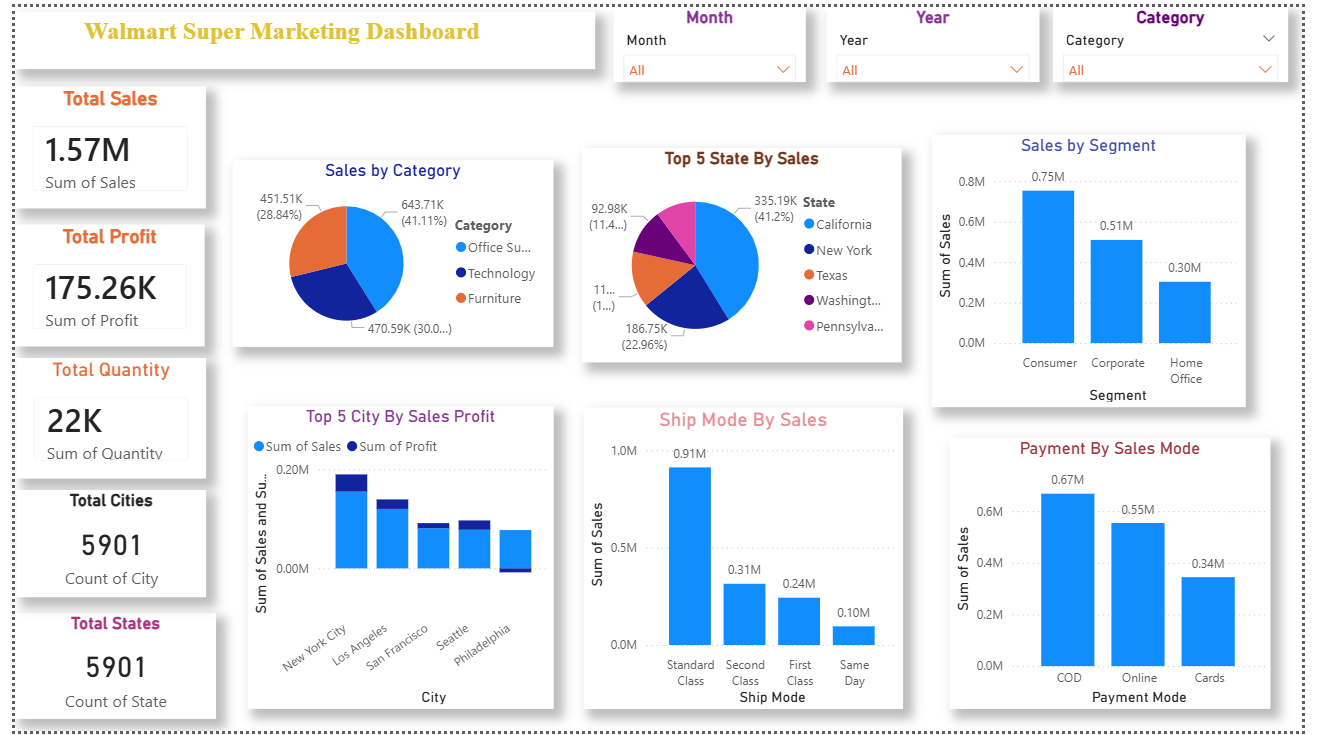

This screenshot's page, from the dashboard's own definition file:
{"tool":"powerbi","page":{"name":"Page 1","canvas":[1280,720],"ordinal":0},"visuals":[{"type":"textbox","box":[0,5,577.5,57.5],"z":0},{"type":"cardVisual","title":"Total Sales","fields":{"Data":["Sum(SuperStore_Sales_Dataset (1).Sales)"]},"box":[0,78.9,190,121.3],"z":1000},{"type":"cardVisual","title":"Total Profit","fields":{"Data":["Sum(SuperStore_Sales_Dataset (1).Profit)"]},"box":[0,216.3,188.5,121.3],"z":2000},{"type":"cardVisual","title":"Total Quantity","fields":{"Data":["Sum(SuperStore_Sales_Dataset (1).Quantity)"]},"box":[1.5,349.3,188.5,119.8],"z":3000},{"type":"card","title":"Total States ","fields":{"Values":["CountNonNull(SuperStore_Sales_Dataset (1).State)"]},"box":[0,603.6,200.2,105.2],"z":4000},{"type":"card","title":"Total Cities","fields":{"Values":["CountNonNull(SuperStore_Sales_Dataset (1).City)"]},"box":[1.5,480.8,188.5,106.7],"z":5000},{"type":"pieChart","title":"Sales by Category","fields":{"Y":["Sum(SuperStore_Sales_Dataset (1).Sales)"],"Category":["SuperStore_Sales_Dataset (1).Category"]},"box":[216.4,151.6,319.2,185.9],"z":6000},{"type":"pieChart","title":"Top 5 State By Sales","fields":{"Category":["SuperStore_Sales_Dataset (1).State"],"Y":["Sum(SuperStore_Sales_Dataset (1).Sales)"]},"box":[564.2,140.3,317.9,213.4],"z":7000},{"type":"columnChart","title":"Sales by Segment","fields":{"Y":["Sum(SuperStore_Sales_Dataset (1).Sales)"],"Category":["SuperStore_Sales_Dataset (1).Segment"]},"box":[911.2,127.5,312.5,271.2],"z":8000},{"type":"columnChart","title":"Top 5 City By Sales Profit","fields":{"Category":["SuperStore_Sales_Dataset (1).City"],"Y":["Sum(SuperStore_Sales_Dataset (1).Sales)","Sum(SuperStore_Sales_Dataset (1).Profit)"]},"box":[231.3,397,304.5,301.5],"z":9000},{"type":"columnChart","title":"Ship Mode By Sales","fields":{"Category":["SuperStore_Sales_Dataset (1).Ship Mode"],"Y":["Sum(SuperStore_Sales_Dataset (1).Sales)"]},"box":[565.7,398.5,317.9,300],"z":10000},{"type":"columnChart","title":"Payment By Sales Mode","fields":{"Category":["SuperStore_Sales_Dataset (1).Payment Mode"],"Y":["Sum(SuperStore_Sales_Dataset (1).Sales)"]},"box":[929.9,428.4,319.4,270.1],"z":11000},{"type":"slicer","title":"Month","fields":{"Values":["SuperStore_Sales_Dataset (1).Month"]},"box":[594.8,0,191.5,74.5],"z":12000},{"type":"slicer","title":"Year","fields":{"Values":["SuperStore_Sales_Dataset (1).Year"]},"box":[806.7,0,211.9,74.5],"z":13000},{"type":"slicer","title":"Category","fields":{"Values":["SuperStore_Sales_Dataset (1).Category"]},"box":[1033.3,0,233.8,74.5],"z":14000}]}

Visuals, with their boxes in screenshot pixels (x1, y1, x2, y2), scaled from the page's 1280x720 canvas onto the 1322x735 screenshot:
textbox: x1=0, y1=5, x2=596, y2=64
"Total Sales" cardVisual: x1=0, y1=81, x2=196, y2=204
"Total Profit" cardVisual: x1=0, y1=221, x2=195, y2=345
"Total Quantity" cardVisual: x1=2, y1=357, x2=196, y2=479
"Total States " card: x1=0, y1=616, x2=207, y2=724
"Total Cities" card: x1=2, y1=491, x2=196, y2=600
"Sales by Category" pieChart: x1=224, y1=155, x2=553, y2=345
"Top 5 State By Sales" pieChart: x1=583, y1=143, x2=911, y2=361
"Sales by Segment" columnChart: x1=941, y1=130, x2=1264, y2=407
"Top 5 City By Sales Profit" columnChart: x1=239, y1=405, x2=553, y2=713
"Ship Mode By Sales" columnChart: x1=584, y1=407, x2=913, y2=713
"Payment By Sales Mode" columnChart: x1=960, y1=437, x2=1290, y2=713
"Month" slicer: x1=614, y1=0, x2=812, y2=76
"Year" slicer: x1=833, y1=0, x2=1052, y2=76
"Category" slicer: x1=1067, y1=0, x2=1309, y2=76
